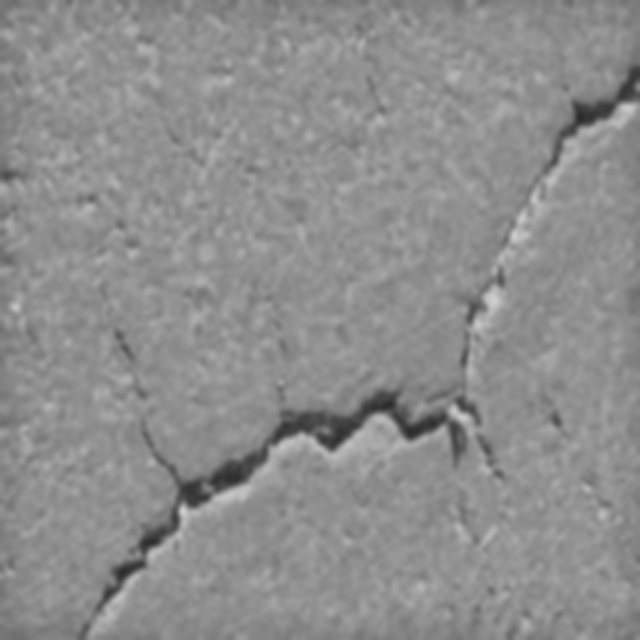SurfaceCrack: (40, 325, 638, 638)
